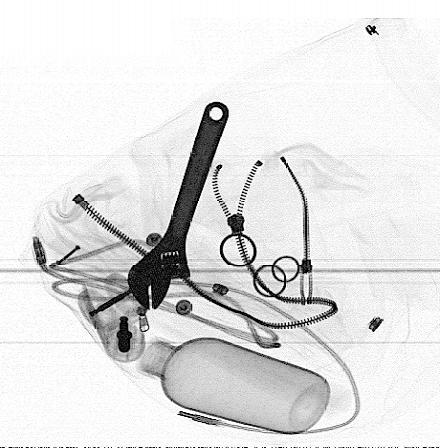Wrench: (126, 99, 231, 310)
